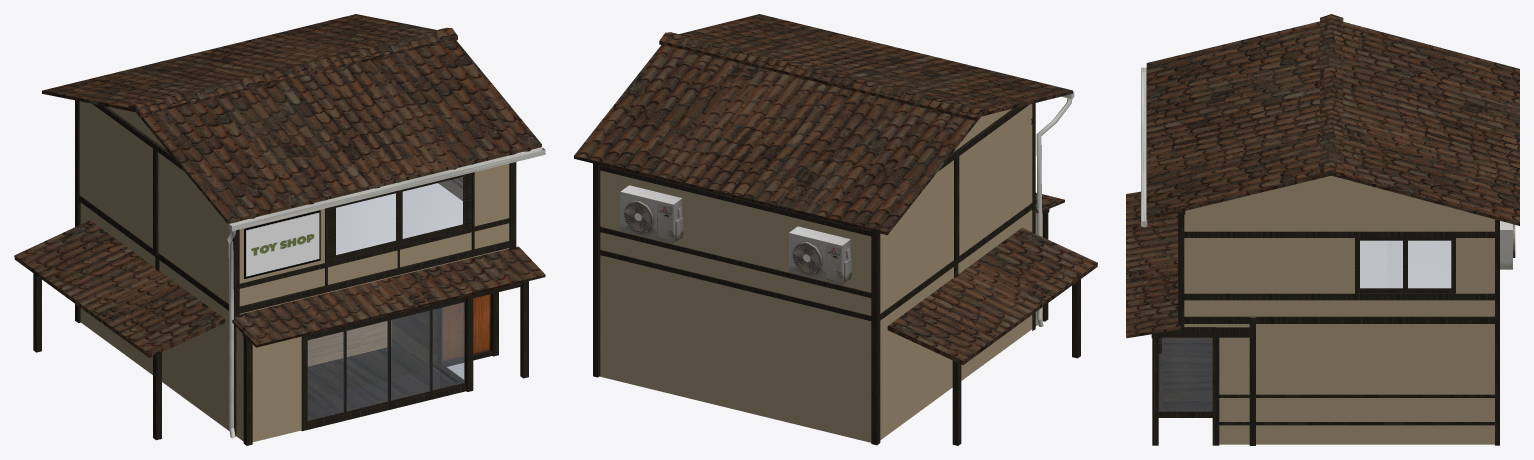
3 renders of one model, left to right at view 1: azimuth 30°, elevation 25°; view 2: azimuth 150°, elevation 25°; view 3: azimuth 270°, elevation 25°, orthographic.
Parts seen in each view (by area): view 1: Box017, Plane001, Crate_Material #184_0; view 2: Box017, airco003_Material #63_0, airco002_Material #63_0; view 3: Box017, Plane001, airco003_Material #63_0.
Boxes of the visible parts, x1,y1,x2,y2 form: Box017: (14,14,545,445); Plane001: (336,183,462,254); Crate_Material #184_0: (244,210,320,278); Box017: (574,14,1097,445); airco003_Material #63_0: (620,185,683,243); airco002_Material #63_0: (789,226,851,284); Box017: (1126,14,1519,445); Plane001: (1360,240,1451,288); airco003_Material #63_0: (1500,221,1515,269).
Bounding box in the file's own units: 849 × 622 × 783.
13 materials, 11 textured.
